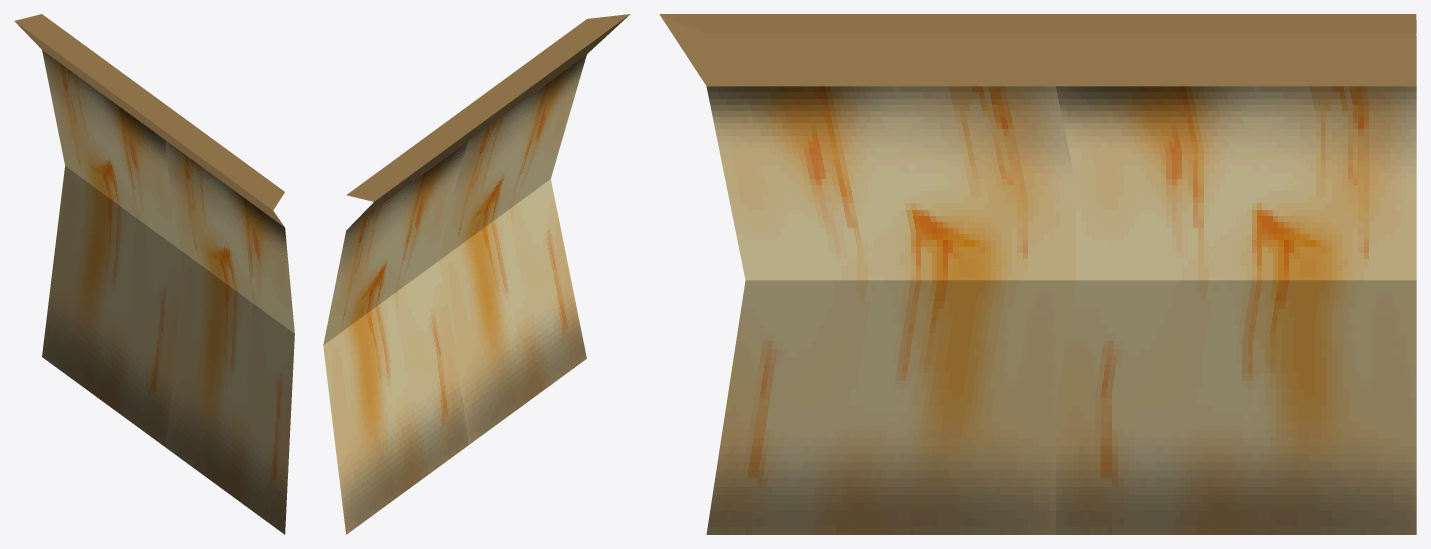
File: W_A2l_xx [Schiff]_2461.glb
The picture shows the model from 3 angles, left to right: view 1: azimuth 30°, elevation 25°; view 2: azimuth 150°, elevation 25°; view 3: azimuth 270°, elevation 25°; orthographic projection. The views are drawn at different scales.
Visible parts, largest first — view 1: pPlaneShape1, polySurfaceShape1065; view 2: pPlaneShape1, polySurfaceShape1065; view 3: pPlaneShape1, polySurfaceShape1065.
Part boxes in pixels (<box>): pPlaneShape1: <box>42,50,294,534</box>; polySurfaceShape1065: <box>14,14,284,227</box>; pPlaneShape1: <box>323,54,586,534</box>; polySurfaceShape1065: <box>346,14,630,229</box>; pPlaneShape1: <box>706,86,1416,534</box>; polySurfaceShape1065: <box>659,14,1416,86</box>.
Size of the model in its own units: 0.0607 by 0.3891 by 0.5333.
2 materials, 2 textured.
